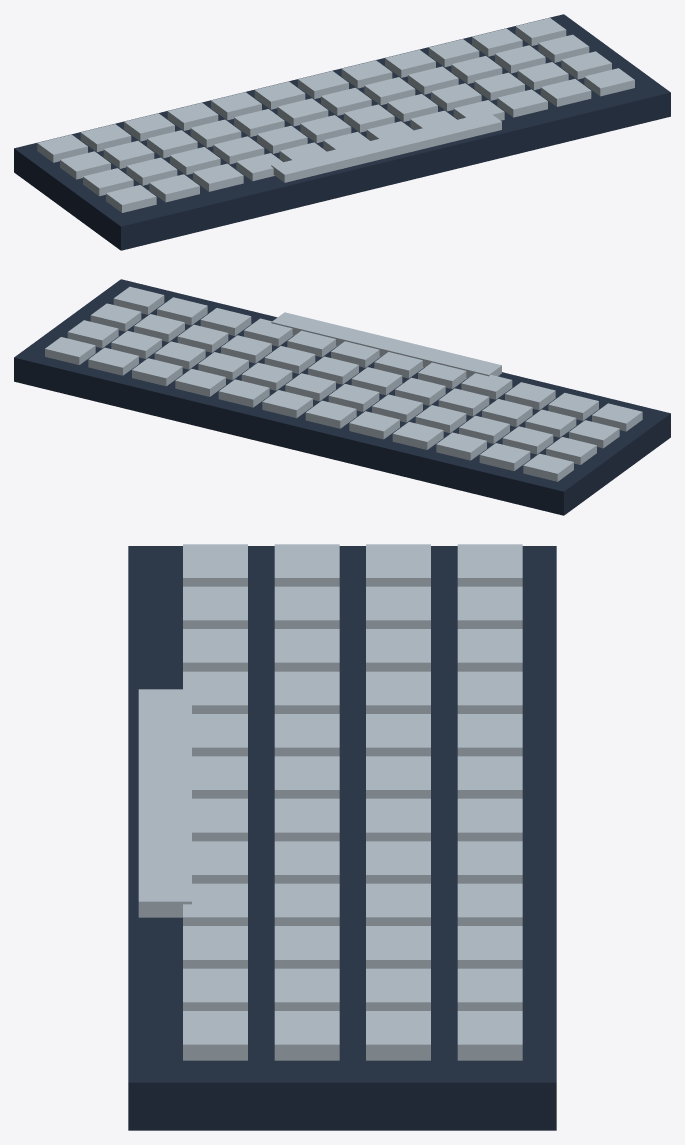
The model's file is officeKeyboard.glb.
3 renders of one model, top to bottom at view 1: azimuth 30°, elevation 25°; view 2: azimuth 150°, elevation 25°; view 3: azimuth 270°, elevation 25°, orthographic. The views are drawn at different scales.
Bounding box in the file's own units: 0.43 × 0.025 × 0.145.
